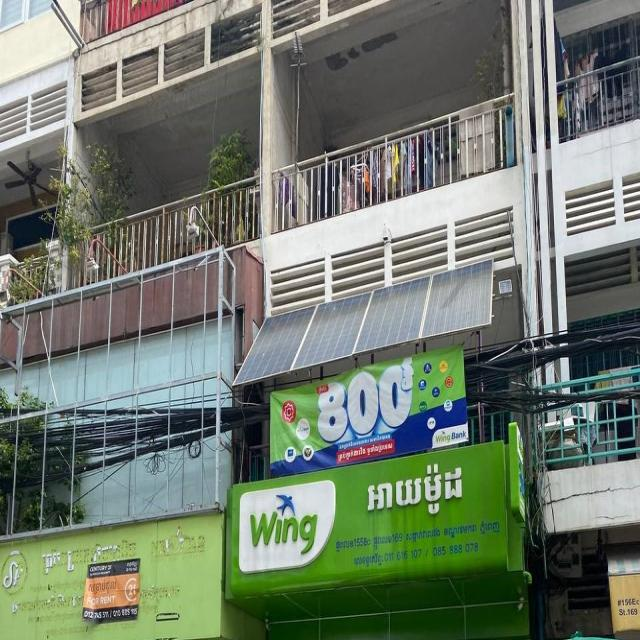844: (313, 362, 409, 448)
Yolov11_80vkh: (364, 459, 463, 523)
